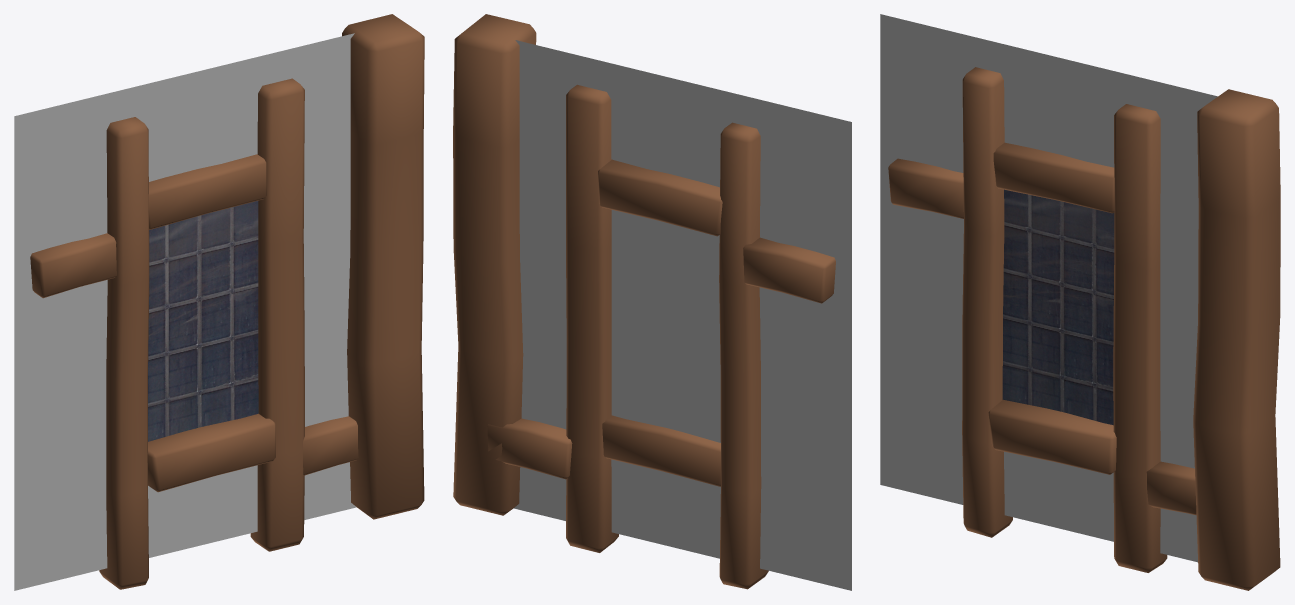
The model's file is house plaster wall 3.fbx.
The picture shows the model from 3 angles, left to right: view 1: azimuth 30°, elevation 25°; view 2: azimuth 150°, elevation 25°; view 3: azimuth 330°, elevation 25°; orthographic projection.
Parts seen in each view (by area): view 1: beam small lp.046; view 2: beam small lp.046; view 3: beam small lp.046.
Boxes of the visible parts, left/top/right/bottom form: beam small lp.046: left=14, top=14, right=424, bottom=590; beam small lp.046: left=453, top=14, right=851, bottom=590; beam small lp.046: left=880, top=14, right=1280, bottom=590.
Bounding box in the file's own units: 217 × 260 × 33.31.
